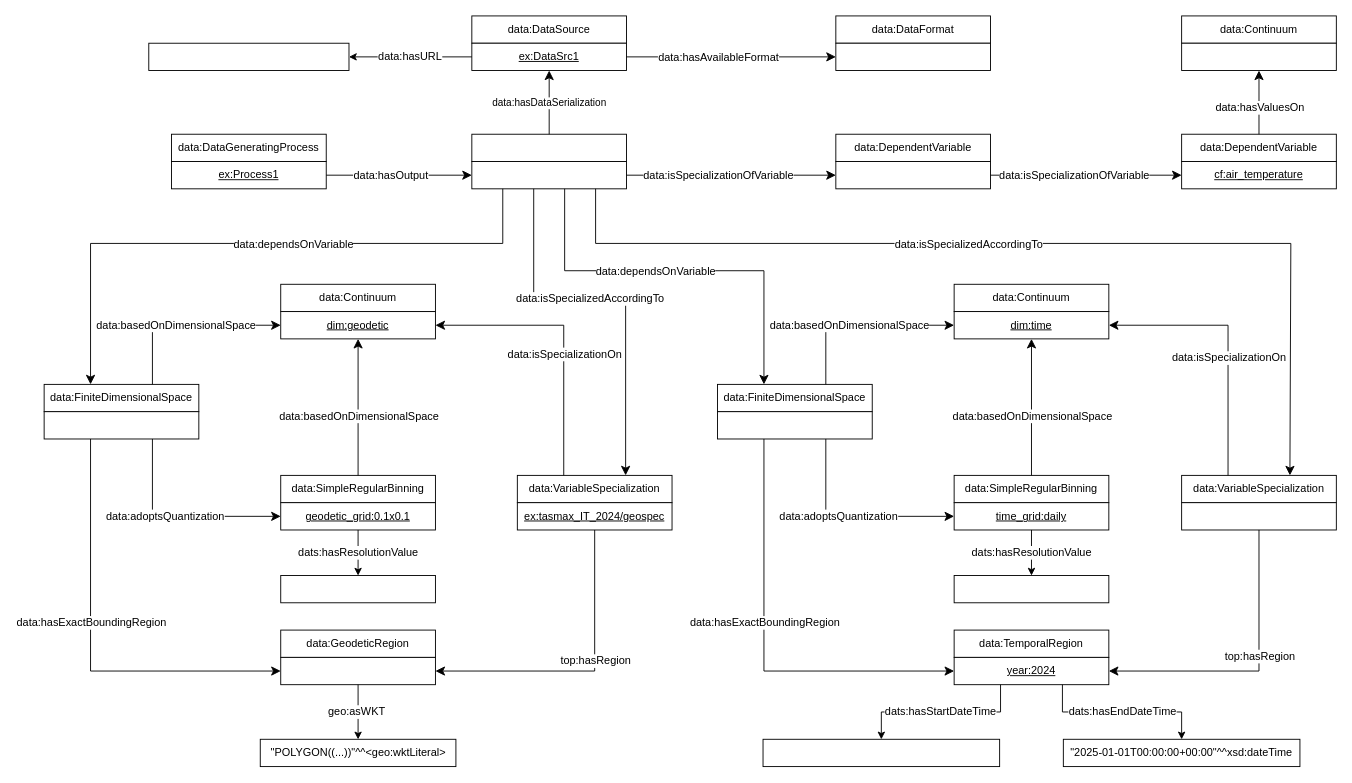
The diagram is 1352 pixels wide and 783 high, and some of its shapes have lost their labels. The shapes that lost their labels are listed below. From the top down, each one's centre as x and y in pixels, then its label:
the point at 248,56: ".../tasmax_IT_2024.nc"^^xsd:anyURI
the point at 913,56: format:NetCDF
the point at 1258,56: dim:temperature
the point at 549,147: data:Dataset
the point at 549,175: ex:tasmax_IT_2024
the point at 913,175: mip:tasmax
the point at 121,425: ex:Italy_0.1x0.1_grid
the point at 794,425: ex:2024_daily
the point at 1258,516: ex:tasmax_IT_2024/timespec
the point at 357,589: "0.1"^^xsd:float
the point at 1031,589: "P1D"^^xsd:duration
the point at 357,670: country:Italy
the point at 881,752: "2024-01-01T00:00:00+00:00"^^xsd:dateTime
